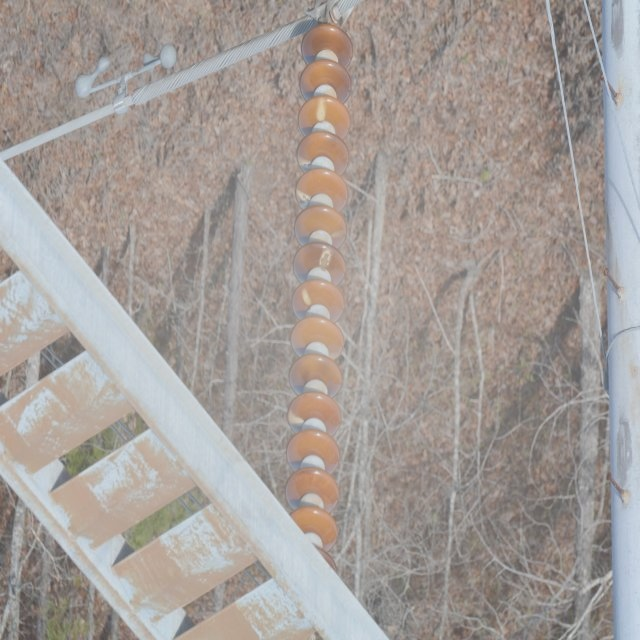insulator: (284, 24, 355, 576)
